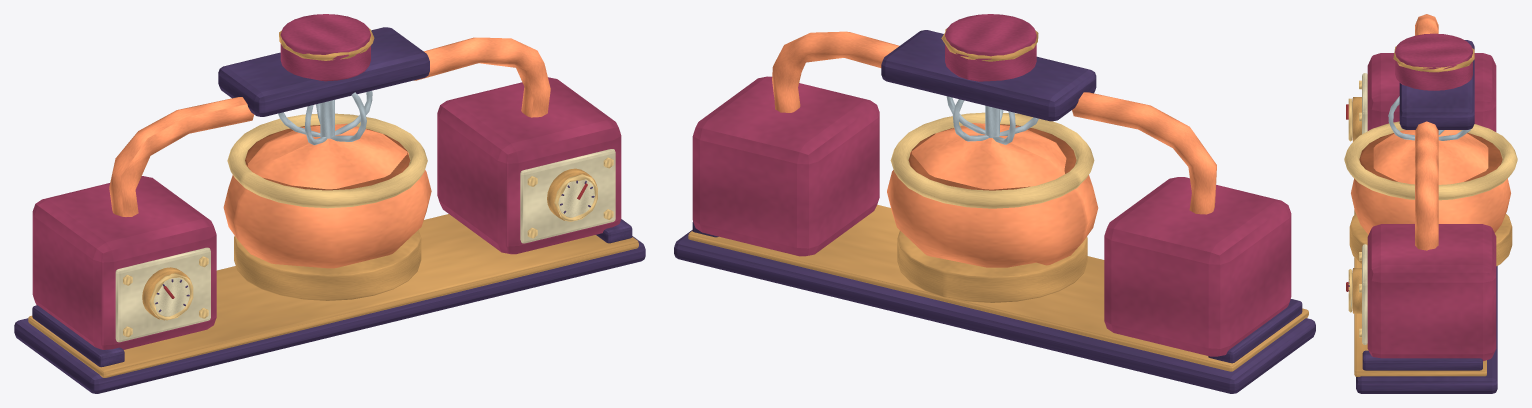
File: Candyland-Copper-Mixer-lite.glb
3 renders of one model, left to right at view 1: azimuth 30°, elevation 25°; view 2: azimuth 150°, elevation 25°; view 3: azimuth 270°, elevation 25°, orthographic. The views are drawn at different scales.
Parts seen in each view (by area): view 1: Candyland-Copper-Mixer | housing, Candyland-Copper-Mixer | moving assembly; view 2: Candyland-Copper-Mixer | housing, Candyland-Copper-Mixer | moving assembly; view 3: Candyland-Copper-Mixer | housing, Candyland-Copper-Mixer | moving assembly.
Part boxes in pixels (x1,y1,x2,y2): Candyland-Copper-Mixer | housing: [14, 14, 645, 393]; Candyland-Copper-Mixer | moving assembly: [278, 90, 372, 145]; Candyland-Copper-Mixer | housing: [674, 14, 1315, 393]; Candyland-Copper-Mixer | moving assembly: [946, 96, 1038, 144]; Candyland-Copper-Mixer | housing: [1344, 14, 1517, 393]; Candyland-Copper-Mixer | moving assembly: [1388, 96, 1470, 140].
Bounding box in the file's own units: 5.4 × 2.47 × 1.69.
9 materials, 9 textured.
